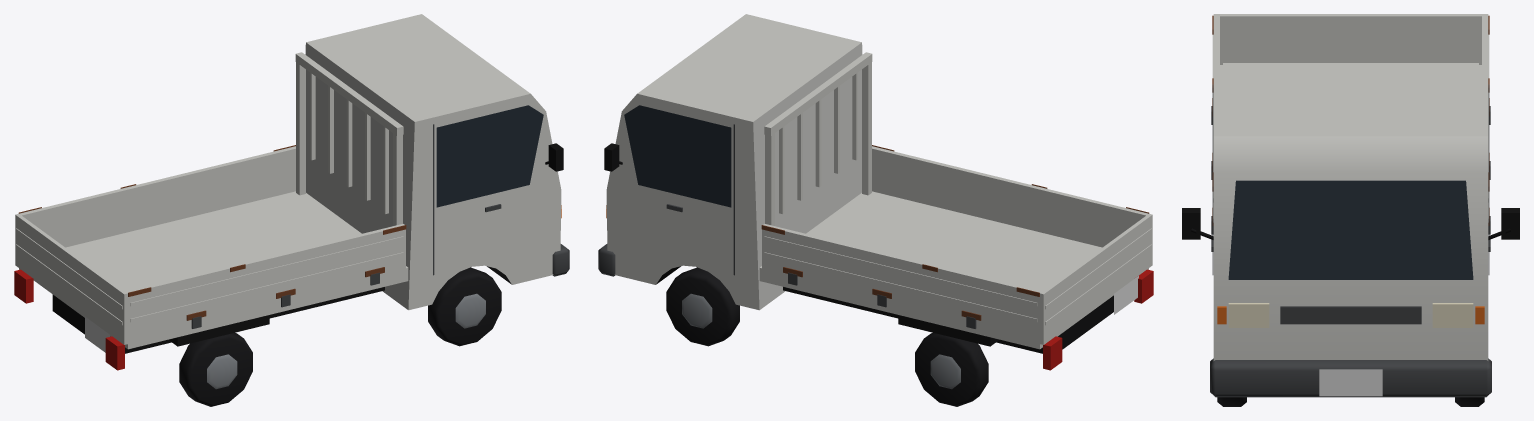
File: KeiTruckKM.fbx
3 renders of one model, left to right at view 1: azimuth 30°, elevation 25°; view 2: azimuth 150°, elevation 25°; view 3: azimuth 270°, elevation 25°, orthographic. The views are drawn at different scales.
Visible parts, largest first — view 1: KeiTruckKM; view 2: KeiTruckKM; view 3: KeiTruckKM.
Part boxes in pixels (x1,y1,x2,y2): KeiTruckKM: (14,14,569,406); KeiTruckKM: (598,14,1153,406); KeiTruckKM: (1182,14,1519,406).
Size of the model in its own units: 3.53 by 1.79 by 1.82.
